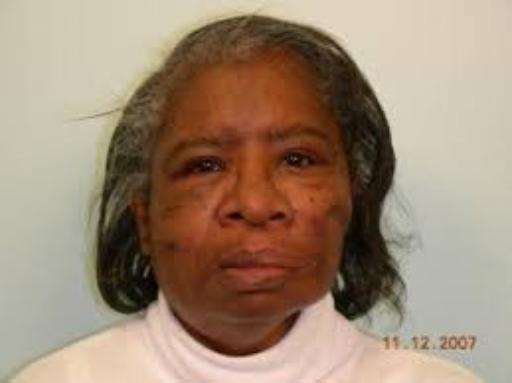left_eye: (275, 152, 320, 171)
left_lip_corner: (285, 260, 310, 275)
right_eye: (176, 155, 230, 177)
right_lip_corner: (210, 260, 237, 276)
